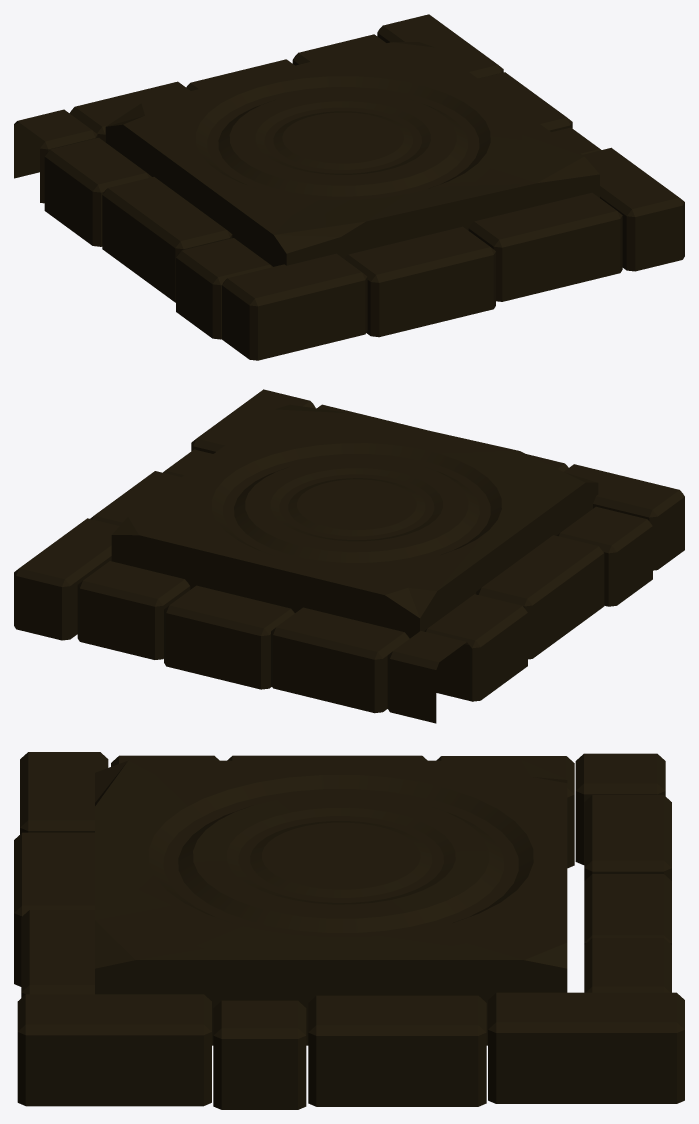
The model's file is plate.obj.
3 views of the same model, one above another, from view 1: azimuth 30°, elevation 25°; view 2: azimuth 150°, elevation 25°; view 3: azimuth 270°, elevation 25° (orthographic). The views are drawn at different scales.
Parts seen in each view (by area): view 1: polySurface326; view 2: polySurface326; view 3: polySurface326.
Boxes of the visible parts, <box> form: polySurface326: <box>14,14,684,360</box>; polySurface326: <box>14,389,684,723</box>; polySurface326: <box>14,752,684,1109</box>.
Size of the model in its own units: 2.79 by 0.5597 by 2.84.
